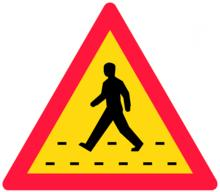Pedestrian Crossing: (13, 11, 210, 183)
